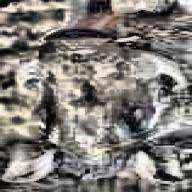boar: (9, 6, 191, 192)
